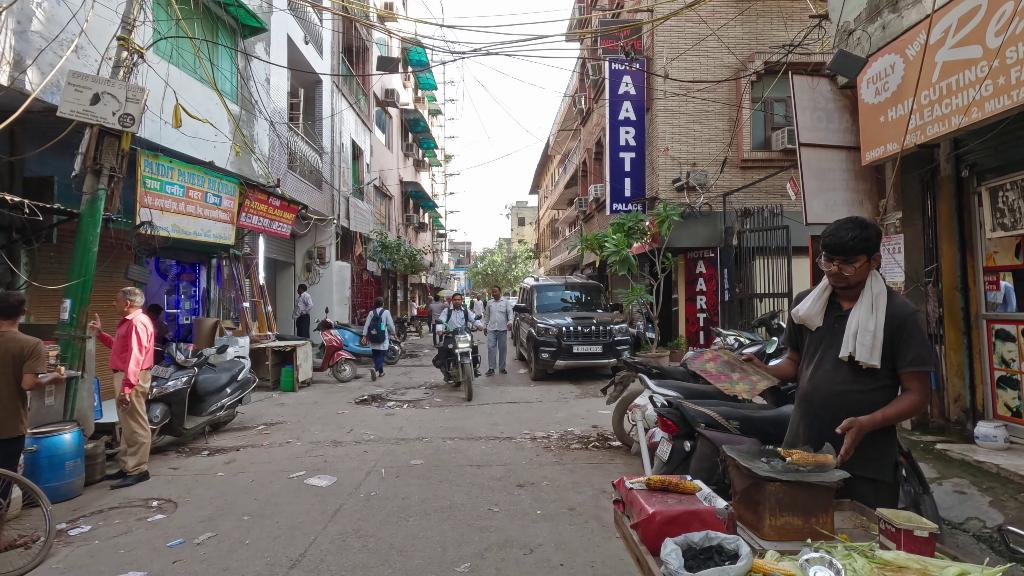garbage: (305, 474, 339, 487), (67, 525, 92, 536)
